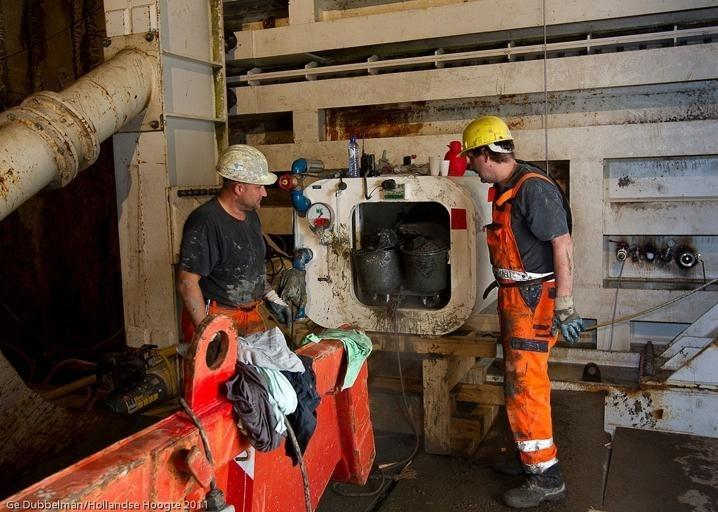bota: (505, 460, 570, 510)
capacete: (213, 146, 283, 189), (461, 117, 514, 153)
luva: (552, 288, 589, 350)
pessoa: (452, 99, 580, 512), (161, 133, 291, 376)
uniforme seguranca: (479, 191, 573, 427)
